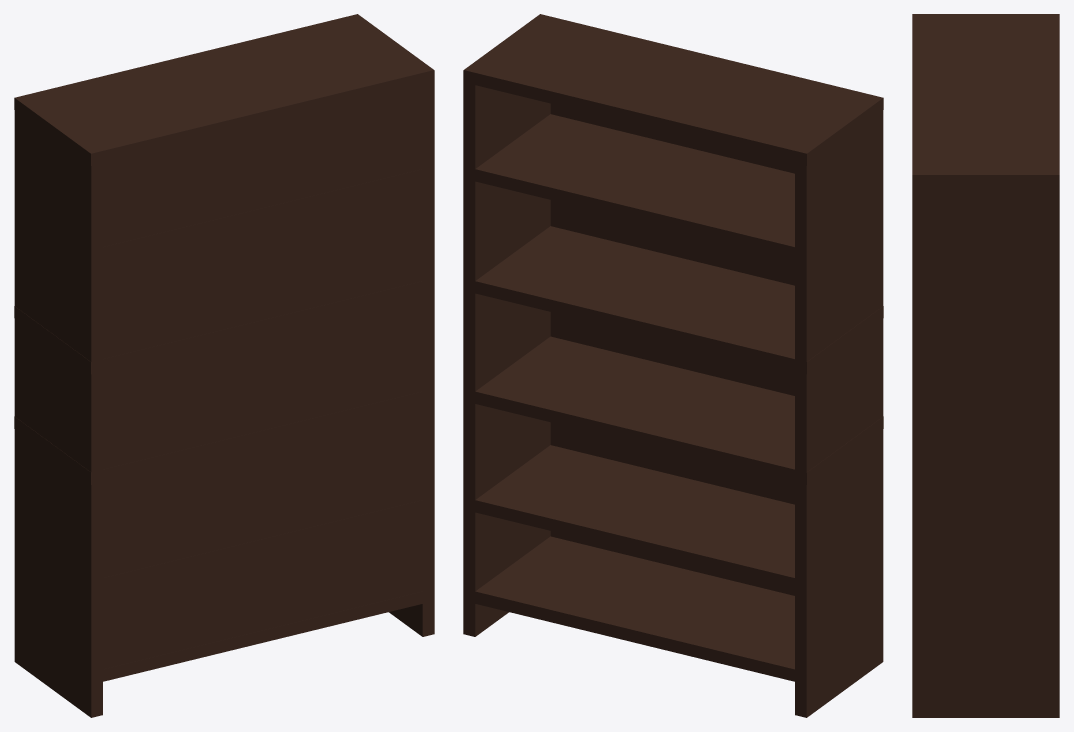
The model's file is Bookshelf 1.fbx.
3 views of the same model, side by side, from view 1: azimuth 30°, elevation 25°; view 2: azimuth 150°, elevation 25°; view 3: azimuth 270°, elevation 25° (orthographic). The views are drawn at different scales.
Visible parts, largest first — view 1: pCube13, pCube12, pCube1, pCube6, pCube5, pCube8, pCube3, pCube10, pCube11; view 2: pCube12, pCube1, pCube6, pCube5, pCube8, pCube3, pCube10, pCube11, pCube13; view 3: pCube6, pCube1.
Boxes of the visible parts, bbox=[...] form: pCube13: bbox=[103, 85, 422, 669]; pCube12: bbox=[14, 110, 102, 717]; pCube1: bbox=[14, 14, 434, 165]; pCube6: bbox=[389, 70, 434, 636]; pCube5: bbox=[14, 281, 434, 374]; pCube8: bbox=[14, 390, 433, 484]; pCube3: bbox=[92, 168, 428, 261]; pCube10: bbox=[92, 499, 428, 592]; pCube11: bbox=[97, 591, 422, 682]; pCube12: bbox=[795, 110, 883, 717]; pCube1: bbox=[463, 14, 883, 165]; pCube6: bbox=[463, 70, 550, 636]; pCube5: bbox=[463, 226, 883, 373]; pCube8: bbox=[463, 336, 883, 484]; pCube3: bbox=[469, 114, 805, 261]; pCube10: bbox=[470, 445, 805, 592]; pCube11: bbox=[475, 536, 800, 682]; pCube13: bbox=[550, 103, 794, 595]; pCube6: bbox=[912, 175, 1059, 717]; pCube1: bbox=[912, 14, 1059, 175].
Size of the model in its own units: 2.59 by 4.07 by 1.
